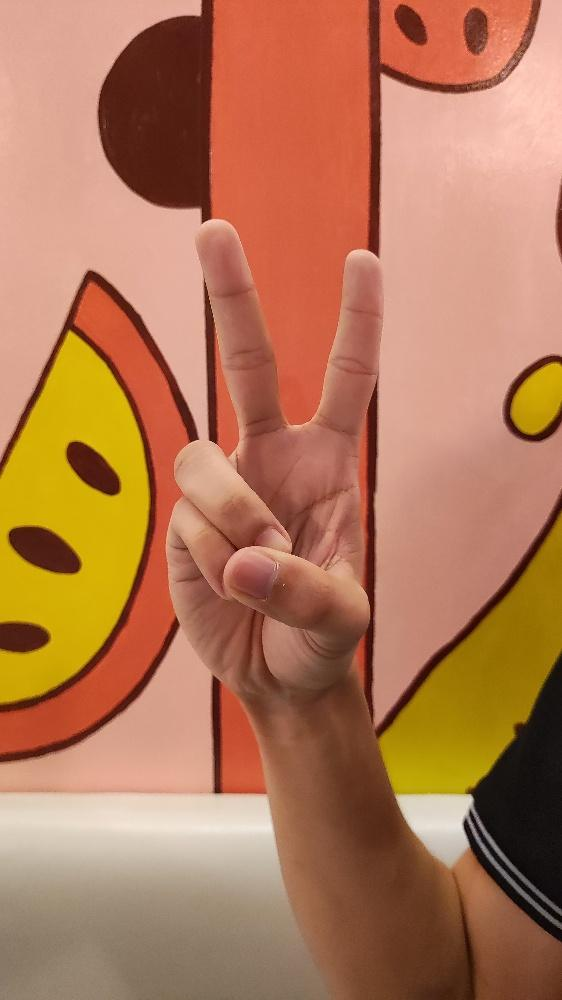v: (163, 213, 385, 692)
